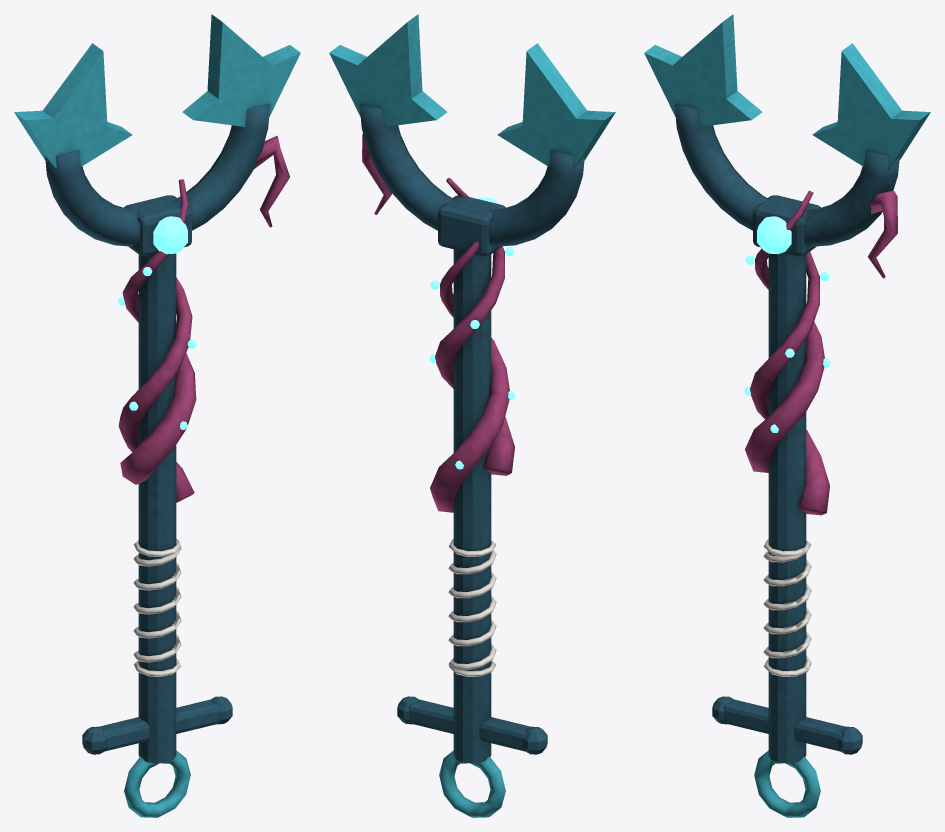
The model's file is 10_abyss_heavy.fbx.
The picture shows the model from 3 angles, left to right: view 1: azimuth 30°, elevation 25°; view 2: azimuth 150°, elevation 25°; view 3: azimuth 330°, elevation 25°; orthographic projection.
Visible parts, largest first — view 1: Weapon; view 2: Weapon; view 3: Weapon.
Part boxes in pixels (bbox=[...]): Weapon: bbox=[14, 14, 300, 817]; Weapon: bbox=[329, 14, 615, 817]; Weapon: bbox=[644, 14, 930, 817].
Bounding box in the file's own units: 51.45 × 140 × 13.98.
Materials: 2 (1 with a texture image).
